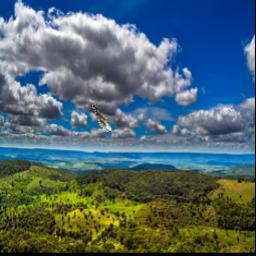Cuckoo: (92, 103, 113, 133)
